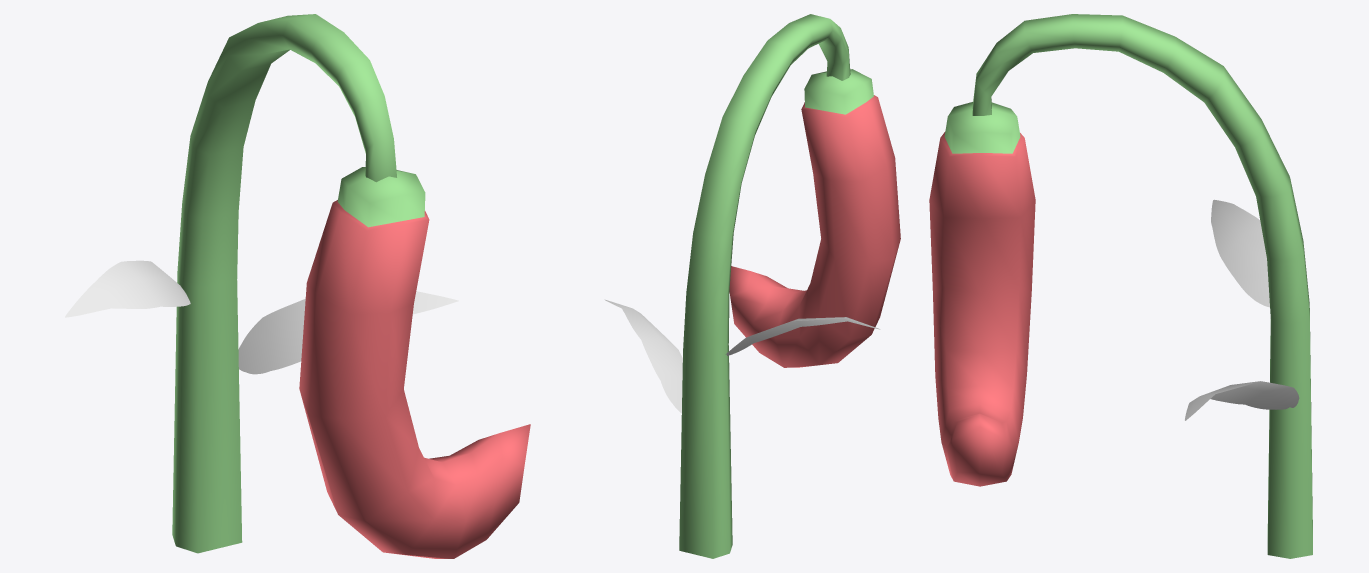
File: HeatFruit.fbx
3 views of the same model, side by side, from view 1: azimuth 30°, elevation 25°; view 2: azimuth 150°, elevation 25°; view 3: azimuth 270°, elevation 25° (orthographic). The views are drawn at different scales.
Parts seen in each view (by area): view 1: HeatFruit_Base_LOD0, HeatFruit_Item_LOD0; view 2: HeatFruit_Base_LOD0, HeatFruit_Item_LOD0; view 3: HeatFruit_Base_LOD0, HeatFruit_Item_LOD0.
Boxes of the visible parts, left/top/right/bottom form: HeatFruit_Base_LOD0: left=65, top=14, right=458, bottom=553; HeatFruit_Item_LOD0: left=299, top=167, right=530, bottom=558; HeatFruit_Base_LOD0: left=604, top=14, right=880, bottom=558; HeatFruit_Item_LOD0: left=729, top=69, right=900, bottom=367; HeatFruit_Base_LOD0: left=972, top=14, right=1312, bottom=558; HeatFruit_Item_LOD0: left=929, top=102, right=1035, bottom=486.
Size of what is drawn, in the model's own units: 0.3424 by 0.4518 by 0.3311.
